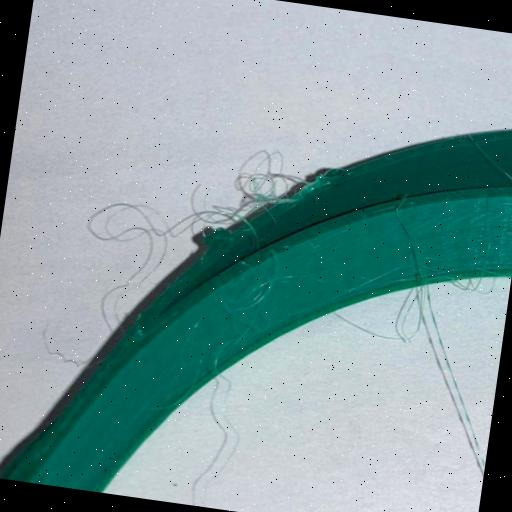stringing: (390, 246, 492, 381), (178, 140, 308, 245)
